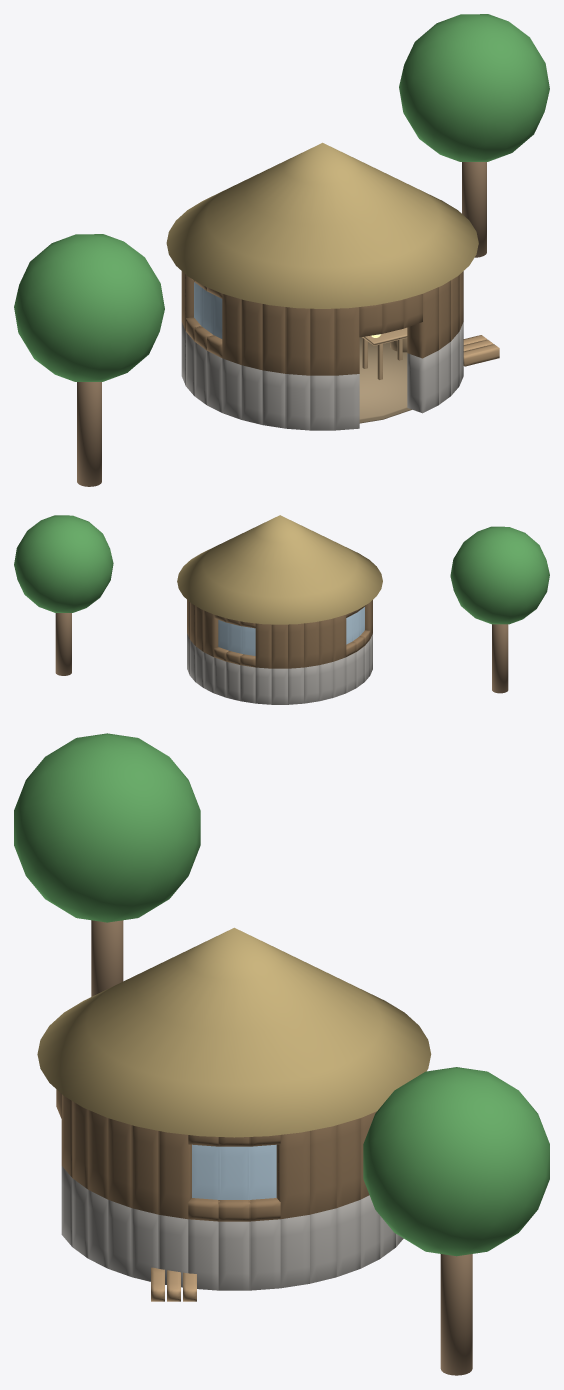
Rendered from cabana_5_redonda.glb.
3 views of the same model, one above another, from view 1: azimuth 30°, elevation 25°; view 2: azimuth 150°, elevation 25°; view 3: azimuth 270°, elevation 25° (orthographic). The views are drawn at different scales.
Parts seen in each view (by area): view 1: Tejado, Arbol2_Copa, Arbol1_Copa, Madera (×9), Piedra (×10), Suelo, Arbol1_Tronco, Dintel (×3), Arbol2_Tronco, Leña; view 2: Tejado, Arbol1_Copa, Arbol2_Copa, Piedra (×14), Madera (×8), Arbol1_Tronco, Cristal (×3), Arbol2_Tronco; view 3: Tejado, Arbol1_Copa, Arbol2_Copa, Piedra (×13), Madera (×9), Cristal (×3), Arbol2_Tronco, Arbol1_Tronco.
Boxes of the visible parts, x1,y1,x2,y2 form: Tejado: (166,142,478,308); Arbol2_Copa: (399,14,549,161); Arbol1_Copa: (14,234,164,381); Madera (×9): (181,271,450,375); Piedra (×10): (194,342,450,430); Suelo: (359,337,411,423); Arbol1_Tronco: (77,382,101,486); Dintel (×3): (359,294,422,337); Arbol2_Tronco: (462,162,486,257); Leña: (463,344,499,366); Tejado: (177,515,382,624); Arbol1_Copa: (450,526,549,624); Arbol2_Copa: (14,515,113,612); Piedra (×14): (195,640,370,704); Madera (×8): (195,606,346,668); Arbol1_Tronco: (492,624,508,693); Cristal (×3): (218,620,255,655); Arbol2_Tronco: (55,613,71,675); Tejado: (37,927,431,1137); Arbol1_Copa: (14,733,200,922); Arbol2_Copa: (363,1067,549,1256); Piedra (×13): (61,1166,380,1290); Madera (×9): (61,1094,360,1219); Cristal (×3): (192,1144,276,1199); Arbol2_Tronco: (440,1254,472,1375); Arbol1_Tronco: (91,920,123,996).
Size of what is drawn, in the model's own units: 0.971 by 0.3425 by 0.5485.
